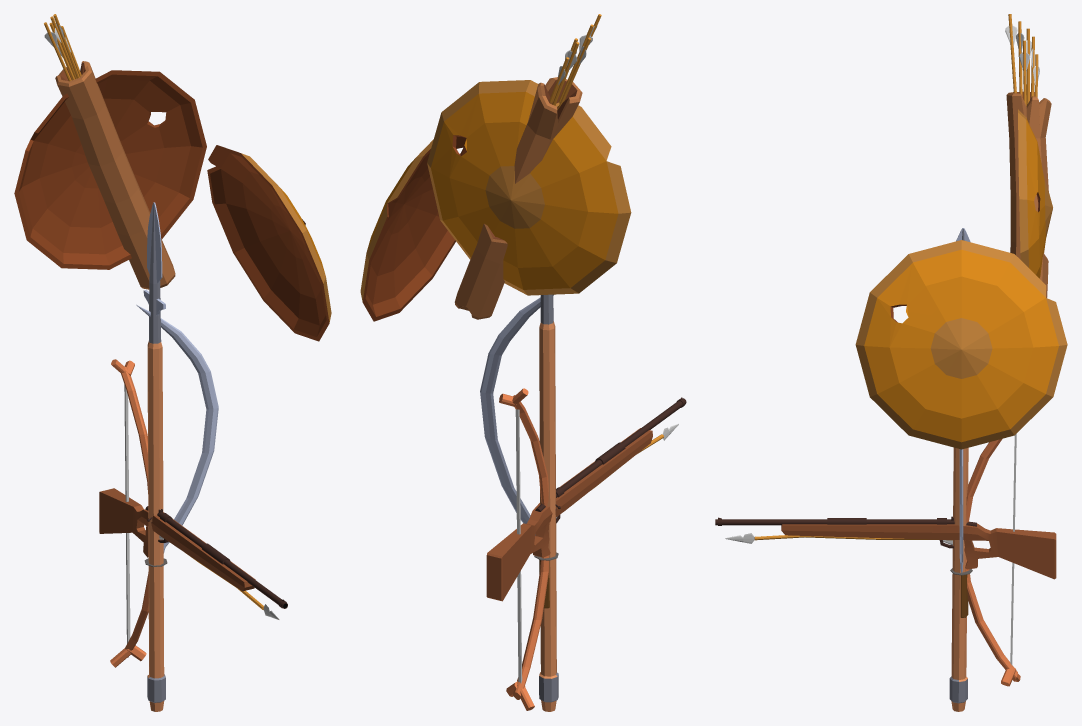
File: Weapon.fbx
The picture shows the model from 3 angles, left to right: view 1: azimuth 30°, elevation 25°; view 2: azimuth 150°, elevation 25°; view 3: azimuth 270°, elevation 25°; orthographic projection. The views are drawn at different scales.
Parts seen in each view (by area): view 1: sheild2, sheild1, bow_Storage, Spear, Riffle, bow, sword; view 2: sheild2, sheild1, bow_Storage, Riffle, Spear, bow, sword; view 3: sheild1, Riffle, bow_Storage, sheild2, Spear, bow, sword, Arrow.
Part boxes in pixels (x1,y1,x2,y2): sheild2: [14, 70, 206, 269]; sheild1: [207, 145, 331, 341]; bow_Storage: [44, 14, 175, 289]; Spear: [143, 202, 165, 711]; Riffle: [99, 488, 287, 608]; bow: [110, 359, 148, 667]; sword: [136, 304, 218, 566]; sheild2: [427, 80, 631, 295]; sheild1: [360, 136, 466, 321]; bow_Storage: [454, 14, 601, 319]; Riffle: [486, 397, 686, 601]; Spear: [539, 294, 558, 711]; bow: [499, 388, 548, 710]; sword: [480, 294, 558, 608]; sheild1: [855, 240, 1067, 449]; Riffle: [715, 516, 1056, 579]; bow_Storage: [1005, 14, 1051, 297]; sheild2: [1018, 109, 1052, 278]; Spear: [949, 228, 970, 711]; bow: [965, 434, 1020, 686]; sword: [950, 449, 972, 617]; Arrow: [725, 533, 952, 545].
Size of the model in its own units: 111 by 286 by 138.
